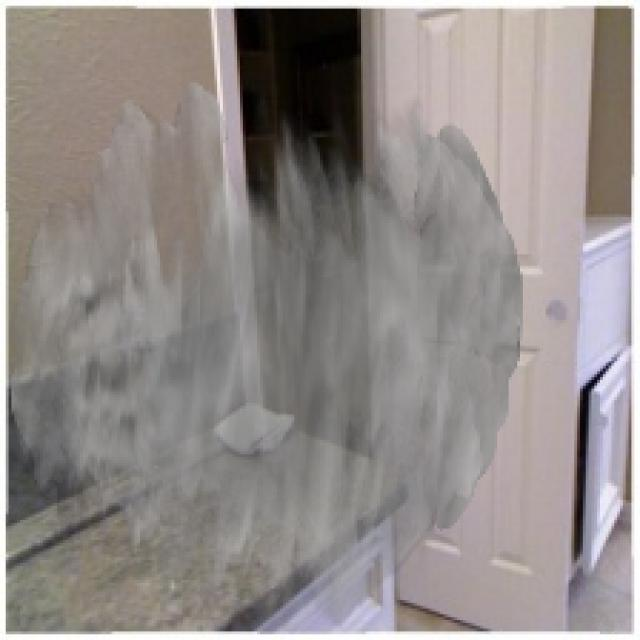smoke: (8, 80, 523, 631)
